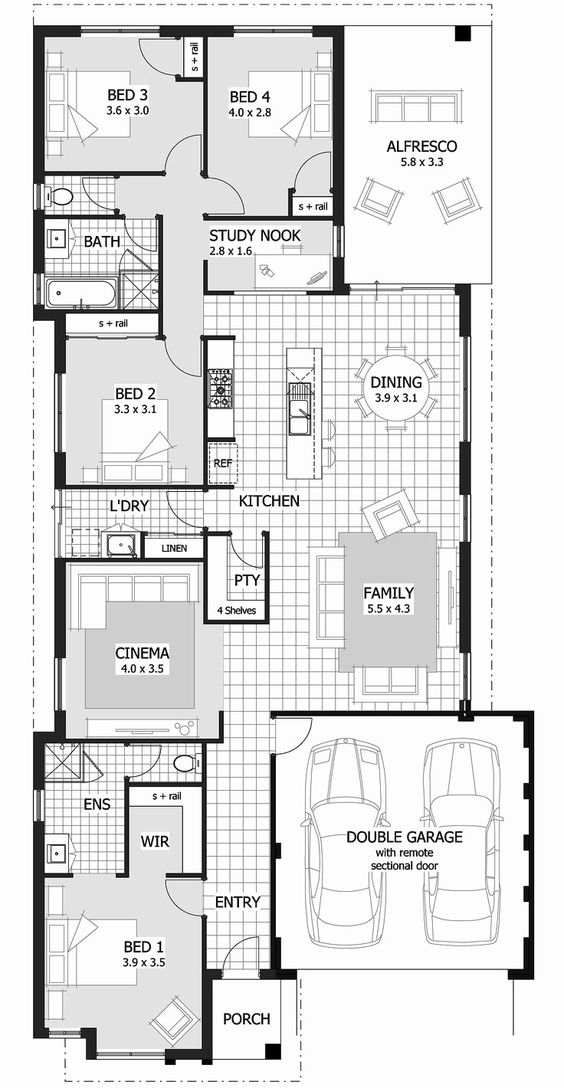door: (134, 35, 174, 82), (209, 173, 250, 215), (223, 924, 262, 967), (160, 877, 199, 919), (292, 146, 332, 182), (79, 174, 115, 211), (165, 490, 200, 528), (229, 535, 264, 573), (130, 743, 165, 781), (279, 716, 314, 754), (164, 133, 203, 167), (165, 344, 204, 378), (122, 222, 159, 251), (84, 754, 108, 787), (118, 247, 148, 267)
